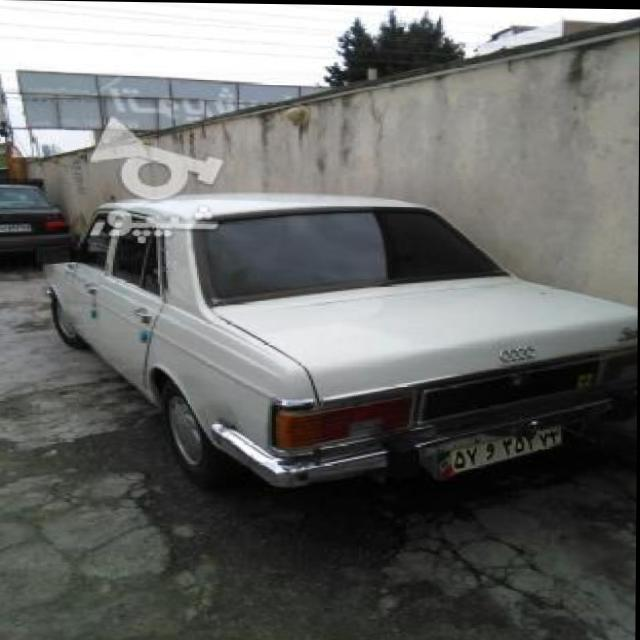licence: (438, 417, 562, 474)
